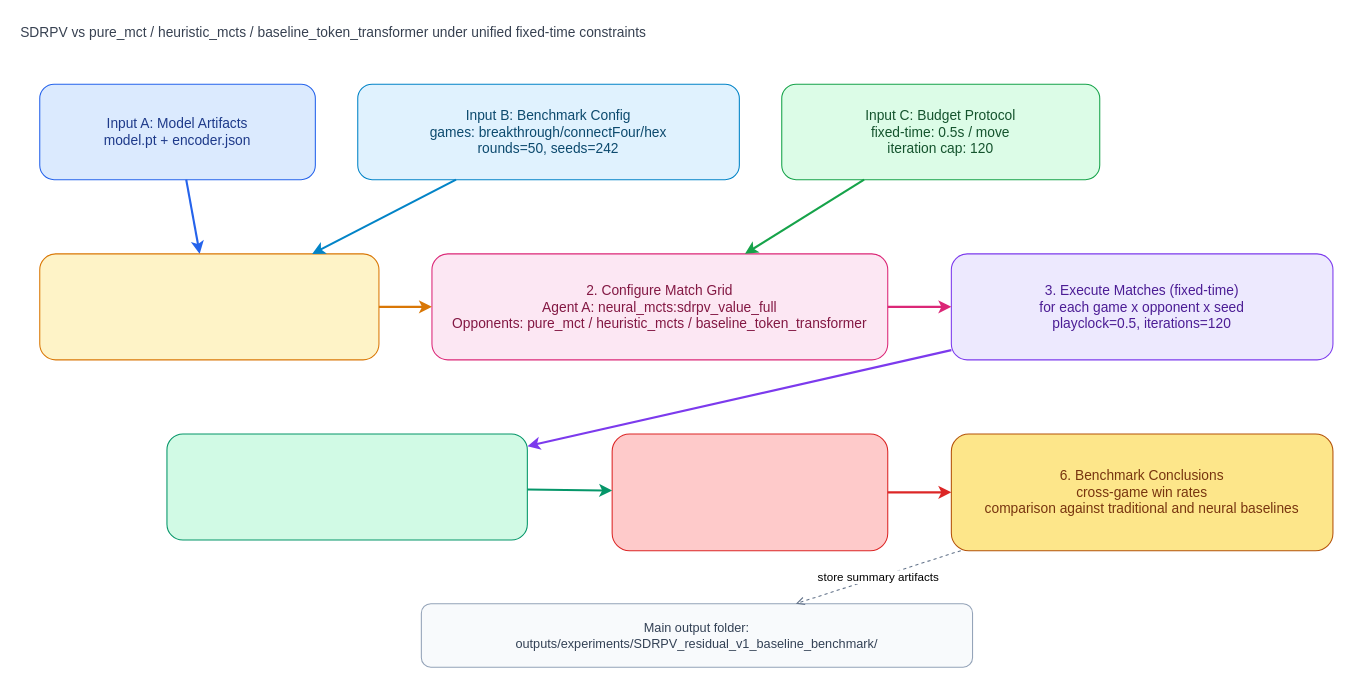
The diagram is 1361 pixels wide and 686 high, and some of its shapes have lost their labels. Here are the shapes that lost their labels. From the top down, the centre of each, then its label:
At (209,306): "1. Load Agents and Artifacts run_sdrpv_residual_v1_baseline_benchmark.py".
At (346,486): "4. Archive Per-Run Outputs matches.json by_game.json + by_game.csv".
At (749,492): "5. Aggregate Statistics per_seed_summary by_game_average aggregate_summary".
